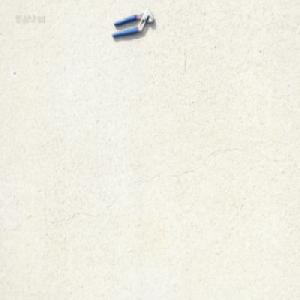Pliers: (111, 9, 155, 38)
